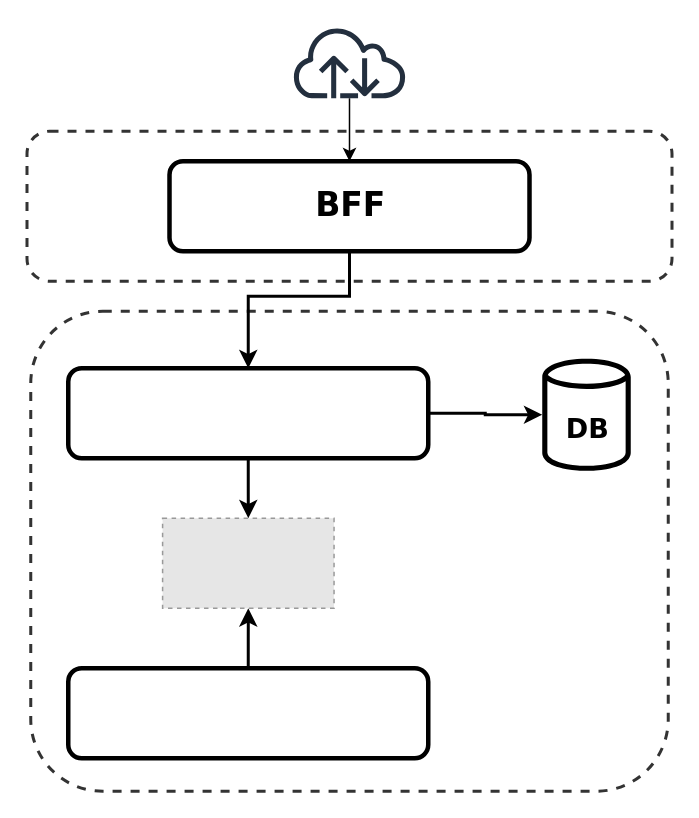
This 699x818 diagram has some shape labels left out. Grey dashed boxes stand in for pictures. The centre of each missing label's shape, as x and y in pixels:
Mailing Service: (x=247, y=712)
Subcription Service: (x=247, y=412)
